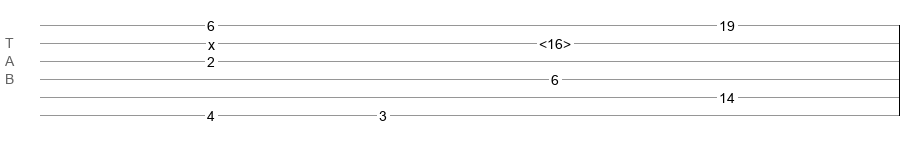14: (719, 90, 735, 100)
19: (719, 18, 735, 28)
2: (207, 54, 215, 64)
3: (379, 108, 387, 118)
4: (207, 108, 215, 118)
6: (207, 18, 215, 28), (551, 72, 559, 82)
harmonic: (539, 36, 571, 46)
x: (208, 37, 215, 45)
